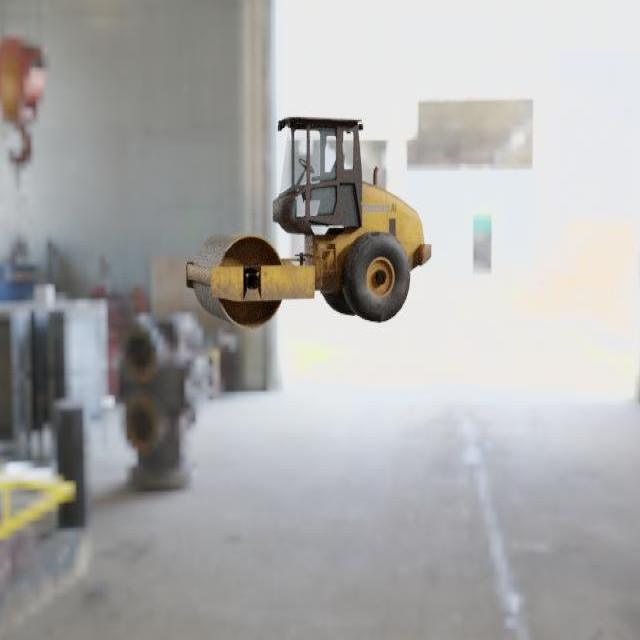Roller: (185, 115, 432, 329)
